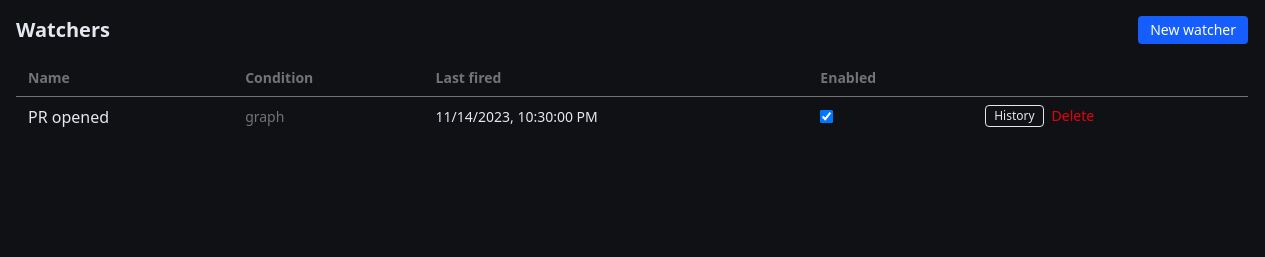
Scenario: Watchers page — history drawer › clicking History again collapses the drawer
Check: the text "PR opened" is shown, box [16,96,233,137]
Click the button with aria-label "history for PR opened" at (1014, 116), box [985,105,1044,127]
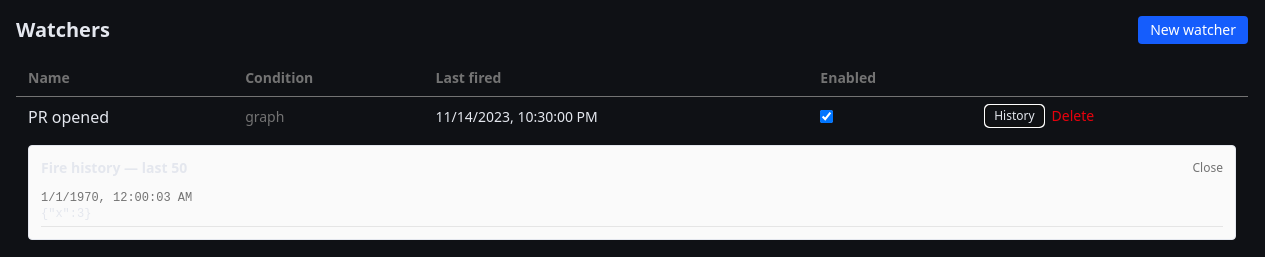
// Click again to close
Click the button with aria-label "history for PR opened" at (1014, 116), box [985,105,1044,127]
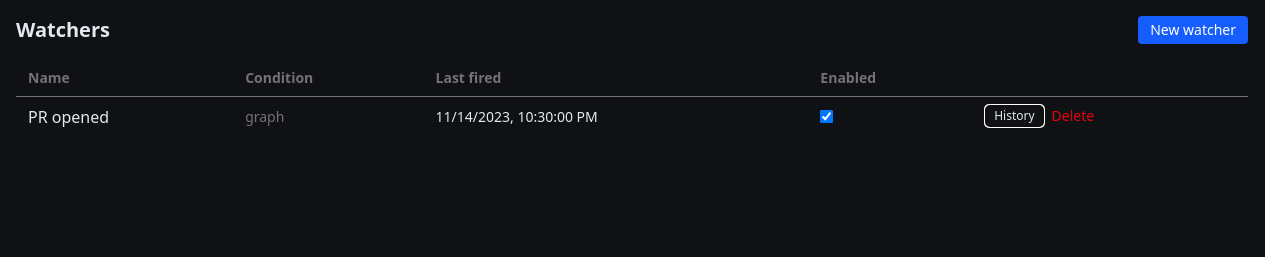
Check: the text "{\"x\":3}" is gone
